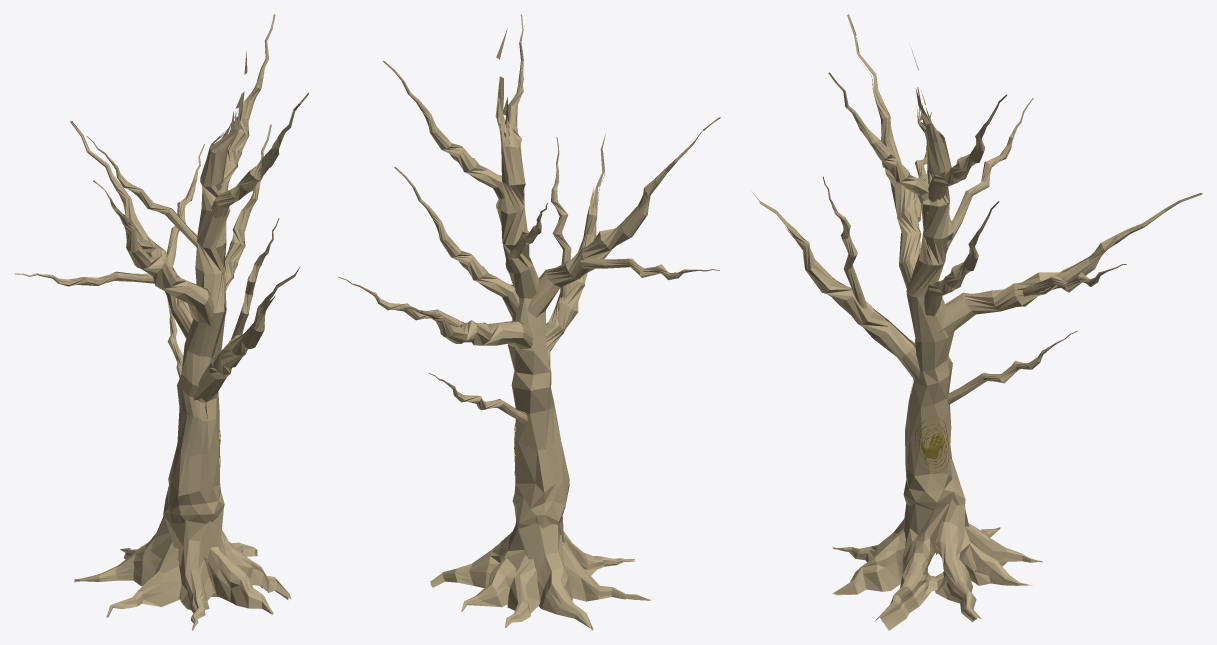
The model's file is TreeDecim2.fbx.
The picture shows the model from 3 angles, left to right: view 1: azimuth 30°, elevation 25°; view 2: azimuth 150°, elevation 25°; view 3: azimuth 270°, elevation 25°; orthographic projection. The views are drawn at different scales.
Visible parts, largest first — view 1: n.0017, n.0016, n.0020, n.0021, n.0011, n.0014, n.0009, n.0019, n.0012, n.0024, n.0023, n.0022 (+5 smaller); view 2: n.0017, n.0020, n.0014, n.0019, n.0021, n.0005, n.0022, n.0023, n.0015, n.0009, n.0006, n.0027 (+6 smaller); view 3: n.0017, n.0012, n.0019, n.0021, n.0005, n.0020, n.0011, n.0024, n.0022, n.0023, n.0006, n.0026 (+4 smaller).
Part boxes in pixels (x1,y1,x2,y2): n.0017: (163, 51, 247, 523); n.0016: (164, 517, 215, 630); n.0020: (93, 180, 214, 325); n.0021: (193, 266, 300, 403); n.0011: (207, 546, 273, 614); n.0014: (74, 517, 174, 586); n.0009: (106, 542, 181, 617); n.0019: (70, 121, 192, 338); n.0012: (199, 507, 291, 599); n.0024: (206, 92, 308, 223); n.0023: (218, 14, 275, 194); n.0022: (224, 124, 271, 290); n.0017: (495, 28, 569, 528); n.0020: (527, 117, 720, 317); n.0014: (517, 523, 593, 630); n.0019: (400, 306, 533, 349); n.0021: (546, 133, 605, 366); n.0005: (430, 518, 525, 588); n.0022: (394, 167, 519, 318); n.0023: (383, 60, 508, 200); n.0015: (505, 554, 540, 628); n.0009: (562, 541, 650, 601); n.0006: (461, 558, 516, 611); n.0027: (580, 258, 719, 279); n.0017: (903, 49, 965, 510); n.0012: (875, 502, 950, 630); n.0019: (938, 193, 1202, 335); n.0021: (751, 191, 920, 380); n.0005: (935, 499, 981, 622); n.0020: (847, 14, 920, 288); n.0011: (832, 528, 905, 595); n.0024: (828, 72, 929, 215); n.0022: (924, 201, 999, 316); n.0023: (928, 94, 1007, 201); n.0006: (962, 541, 1032, 585); n.0026: (947, 98, 1033, 247).
Size of the model in its own units: 2424 by 4310 by 3073.
